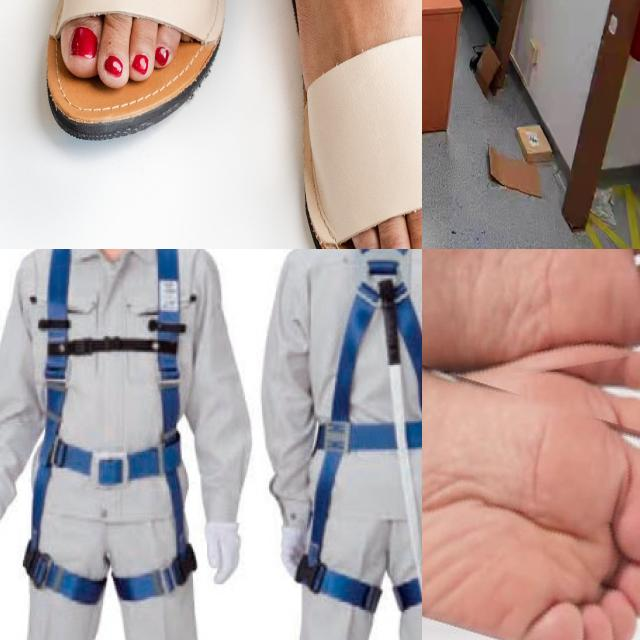Barefoots: (422, 364, 640, 640), (422, 249, 640, 375)
Harness: (20, 249, 197, 606), (299, 249, 422, 613)
Sandals: (261, 0, 422, 249), (42, 0, 227, 148)
